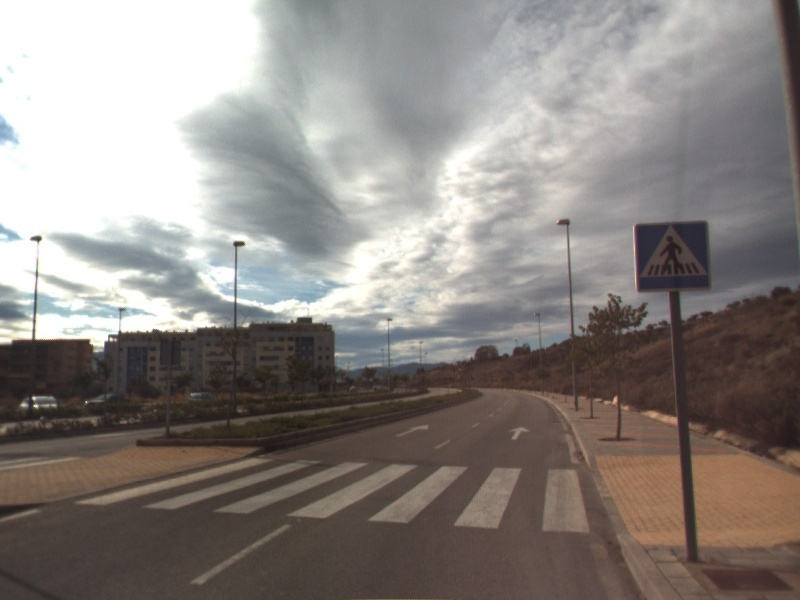STRAIGHT: (393, 422, 431, 439), (507, 424, 532, 442)
